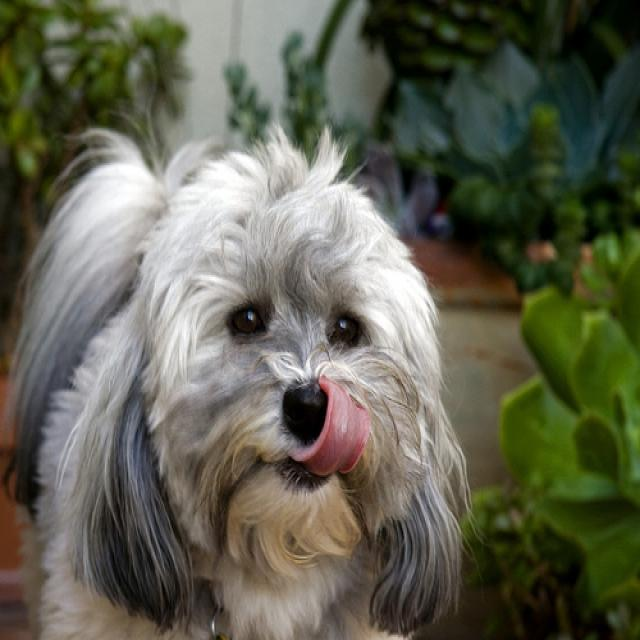dog: (68, 165, 459, 629)
